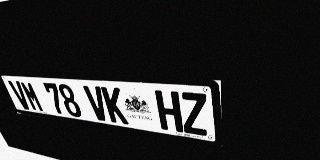7: (42, 83, 68, 116)
8: (56, 84, 83, 118)
H: (154, 90, 183, 133)
K: (101, 86, 129, 124)
M: (19, 81, 45, 112)
V: (83, 85, 111, 122), (7, 80, 33, 110)
Z: (179, 92, 209, 136)
